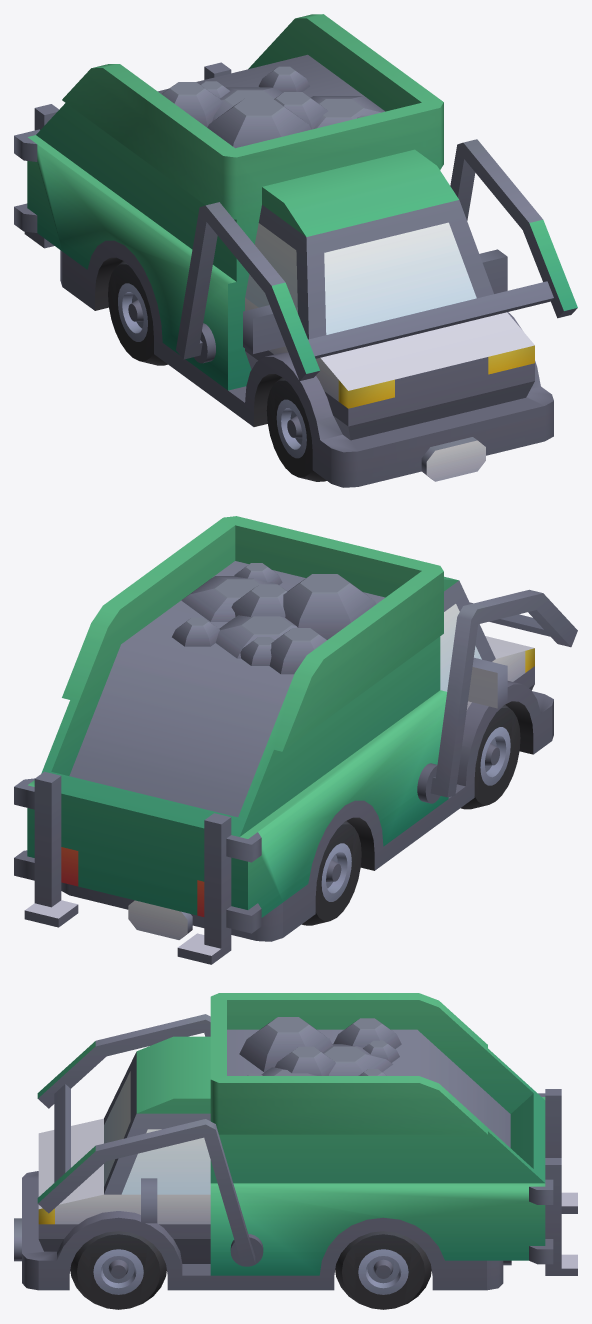
Rendered from kenney-car-garbage-truck.glb.
3 renders of one model, top to bottom at view 1: azimuth 30°, elevation 25°; view 2: azimuth 150°, elevation 25°; view 3: azimuth 270°, elevation 25°, orthographic. The views are drawn at different scales.
Visible parts, largest first — view 1: arm; view 2: arm; view 3: arm.
Part boxes in pixels (x1,y1,x2,y2): arm: [14, 14, 577, 487]; arm: [14, 516, 577, 964]; arm: [14, 993, 577, 1309].
Size of the model in its own units: 1.6 by 1.6 by 3.45.
Materials: 1 (1 with a texture image).
